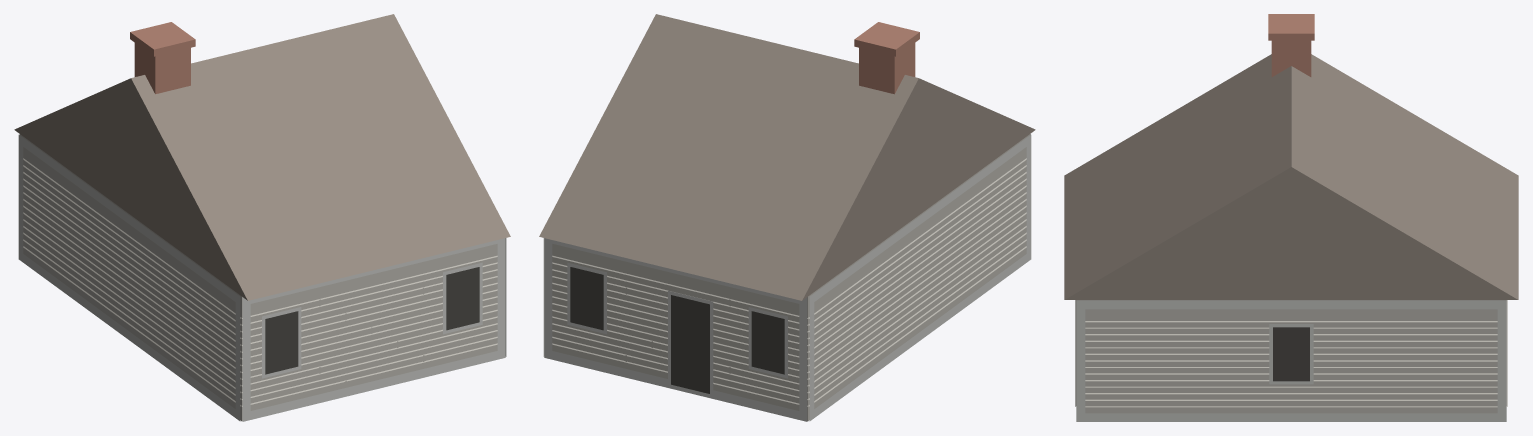
File: recon_1835_blk_lake_market_d5_01__inferred_1835.glb
3 renders of one model, left to right at view 1: azimuth 30°, elevation 25°; view 2: azimuth 150°, elevation 25°; view 3: azimuth 270°, elevation 25°, orthographic. The views are drawn at different scales.
Parts seen in each view (by area): view 1: recon_1835_blk_lake_market_d5_01__inferred_1835; view 2: recon_1835_blk_lake_market_d5_01__inferred_1835; view 3: recon_1835_blk_lake_market_d5_01__inferred_1835.
Boxes of the visible parts, x1,y1,x2,y2 form: recon_1835_blk_lake_market_d5_01__inferred_1835: (14, 14, 510, 421); recon_1835_blk_lake_market_d5_01__inferred_1835: (539, 14, 1035, 421); recon_1835_blk_lake_market_d5_01__inferred_1835: (1064, 14, 1518, 421).
Size of the model in its own units: 6.28 by 6.68 by 9.55.
